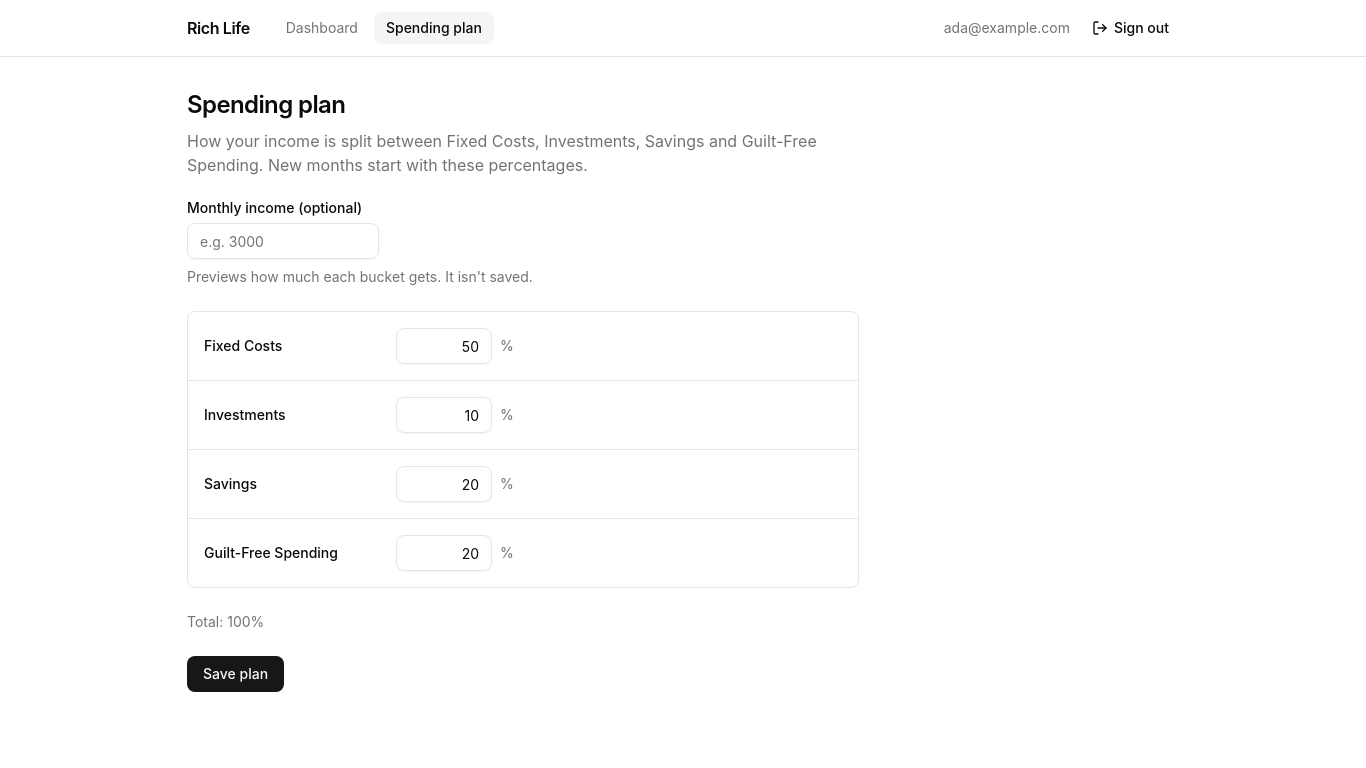
Scenario: PlanPage › keeps the save button enabled while the plan is invalid
This screenshot has width=1366, height=768.
Replace the text in the field labelled "Savings" with "30" at (444, 484), box [396,466,492,502]
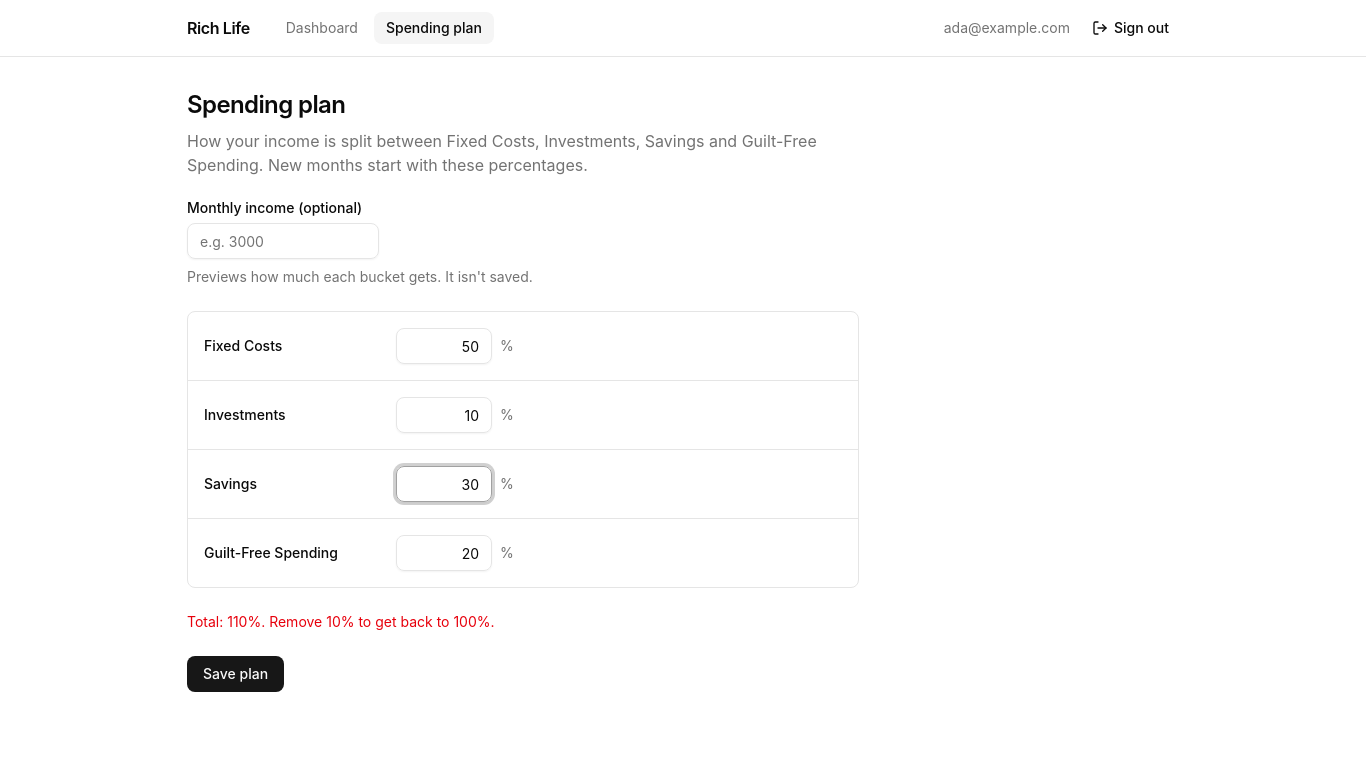
Click the button "Save plan" at (236, 674), box [187,656,284,692]
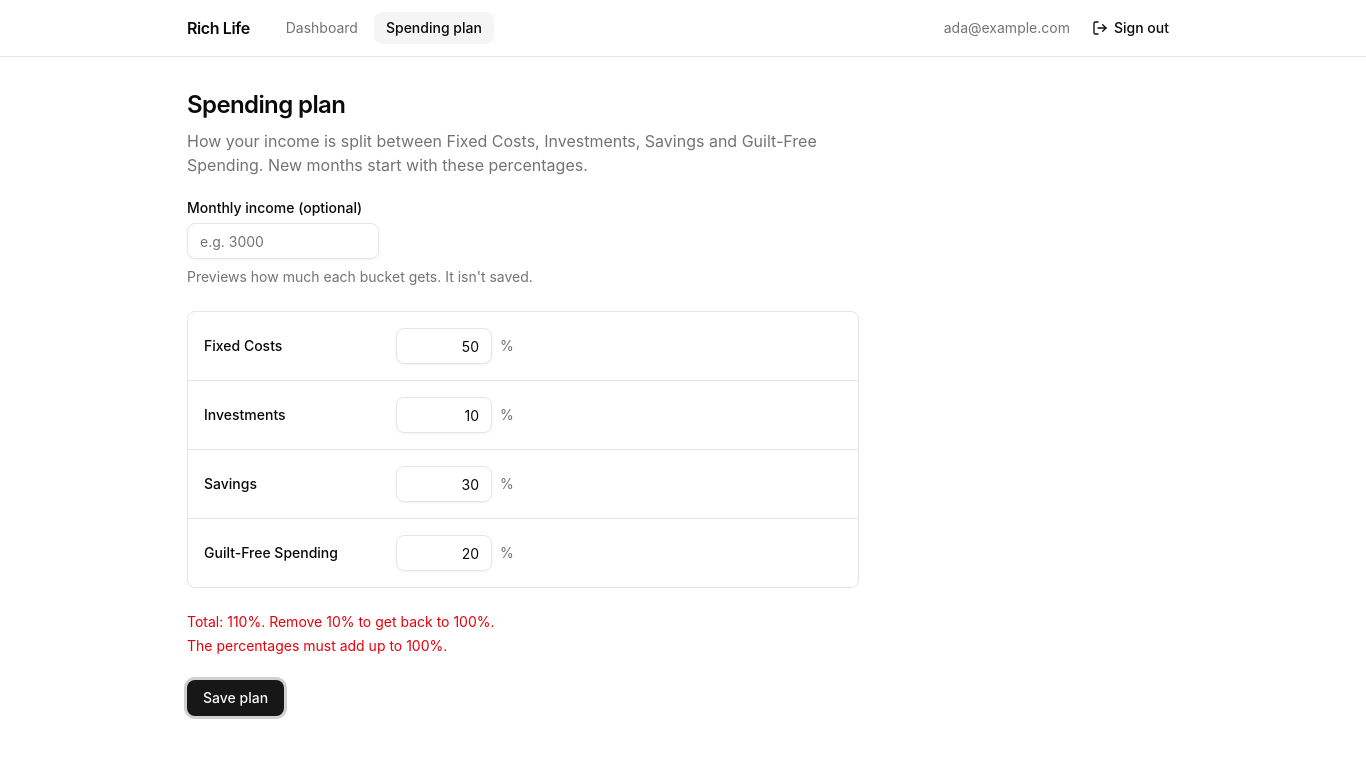
Expected: the button "Save plan" is enabled, [187,680,284,716]
Expected: the text "The percentages must add up to 100%." is shown, [187,637,447,654]
